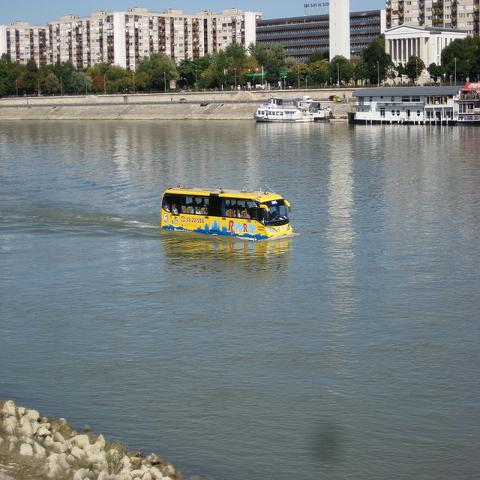bus: (158, 181, 298, 245)
